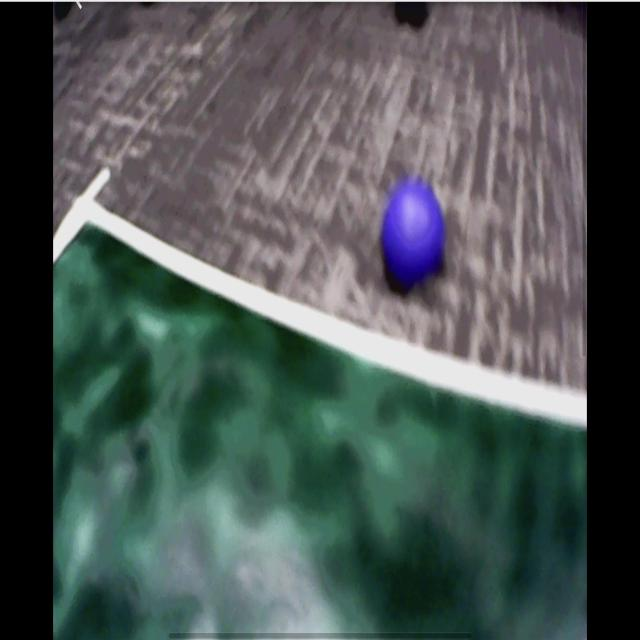ball: (382, 185, 447, 285)
